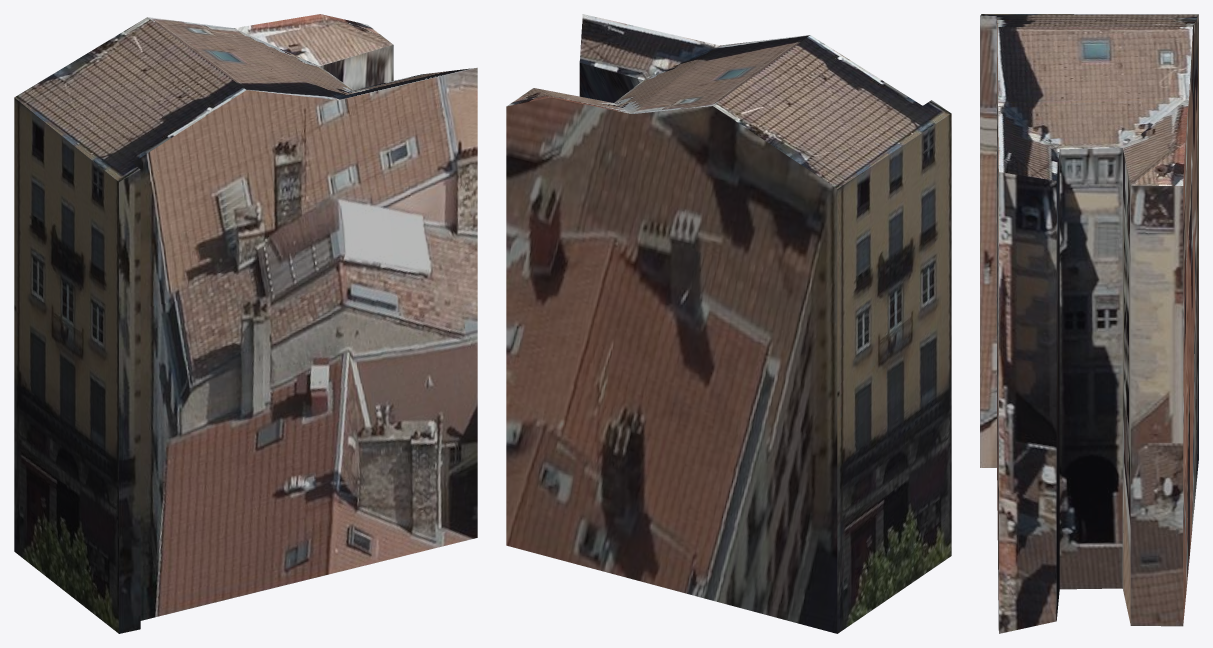
3 views of the same model, side by side, from view 1: azimuth 30°, elevation 25°; view 2: azimuth 150°, elevation 25°; view 3: azimuth 270°, elevation 25° (orthographic). The views are drawn at different scales.
Visible parts, largest first — view 1: Z_UP; view 2: Z_UP; view 3: Z_UP.
Part boxes in pixels (x1,y1,x2,y2): Z_UP: (14,14,477,633); Z_UP: (506,14,951,633); Z_UP: (980,14,1198,633).
Bounding box in the file's own units: 16.83 × 22.09 × 8.83.
2 materials, 1 textured.
